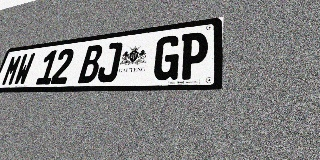1: (35, 50, 60, 85)
2: (50, 48, 75, 84)
B: (77, 44, 104, 83)
G: (152, 34, 181, 81)
J: (96, 42, 123, 83)
M: (1, 54, 23, 86)
P: (178, 31, 209, 80)
W: (12, 53, 36, 86)
